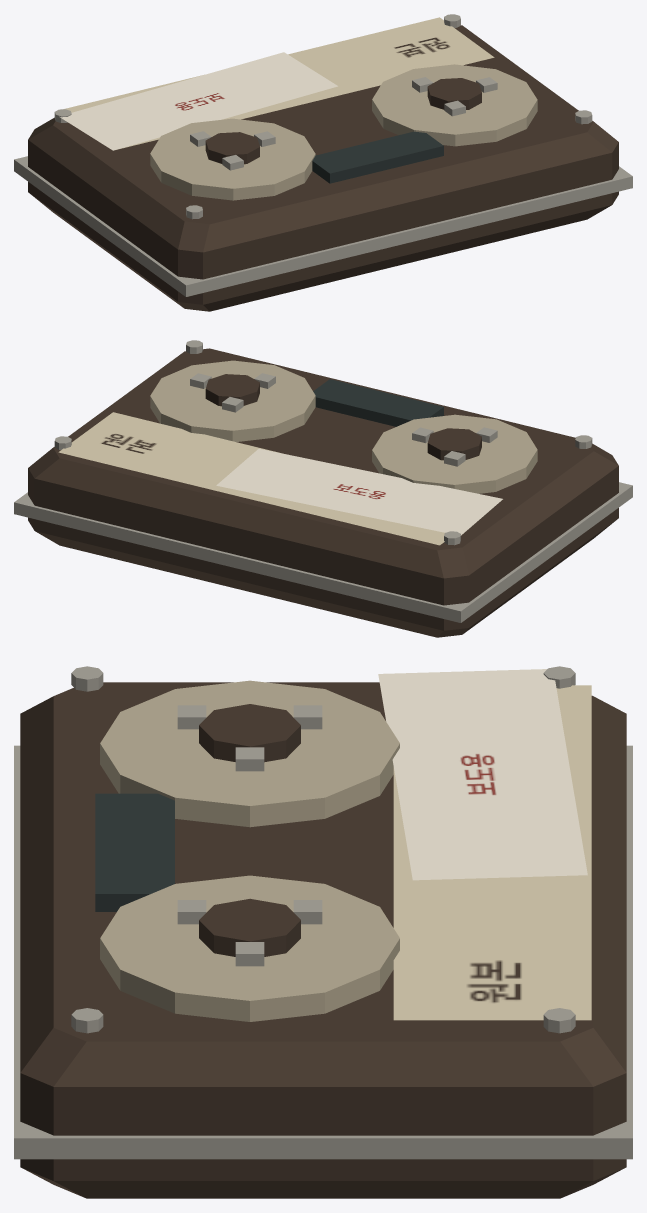
Rendered from W08_Relabelled_Original_Tape.fbx.
3 renders of one model, top to bottom at view 1: azimuth 30°, elevation 25°; view 2: azimuth 150°, elevation 25°; view 3: azimuth 270°, elevation 25°, orthographic. The views are drawn at different scales.
Visible parts, largest first — view 1: Structure, Broadcast_Sticker, Original_Label; view 2: Structure, Broadcast_Sticker, Original_Label; view 3: Structure, Broadcast_Sticker, Original_Label.
Part boxes in pixels (x1,y1,x2,y2): Structure: [14, 14, 632, 311]; Broadcast_Sticker: [59, 52, 337, 150]; Original_Label: [63, 17, 494, 149]; Structure: [14, 340, 632, 637]; Broadcast_Sticker: [216, 448, 502, 535]; Original_Label: [58, 412, 444, 545]; Structure: [14, 666, 632, 1198]; Broadcast_Sticker: [378, 669, 587, 880]; Original_Label: [393, 685, 591, 1020].
Bounding box in the file's own units: 0.3 × 0.07 × 0.2.
5 materials, 1 textured.
